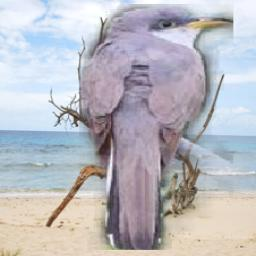Cuckoo: (79, 4, 233, 250)
